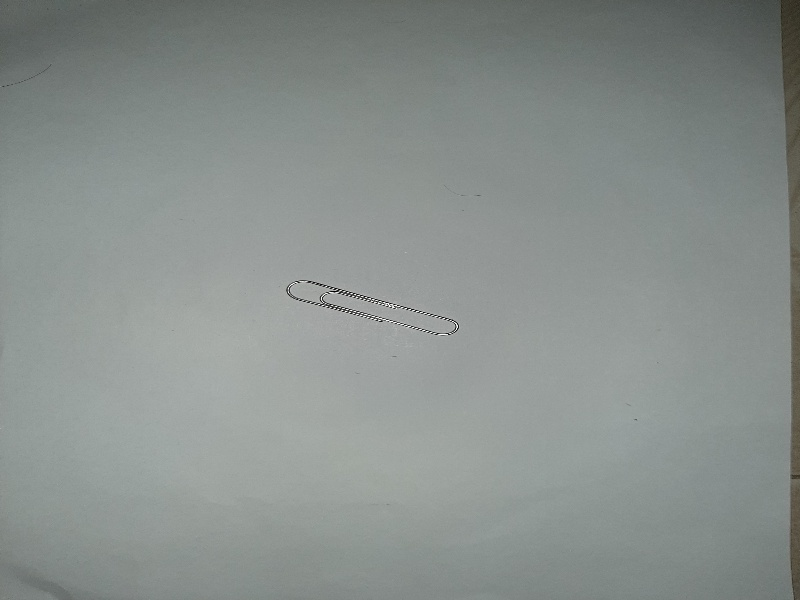Big Jumpclip: (277, 273, 463, 344)
